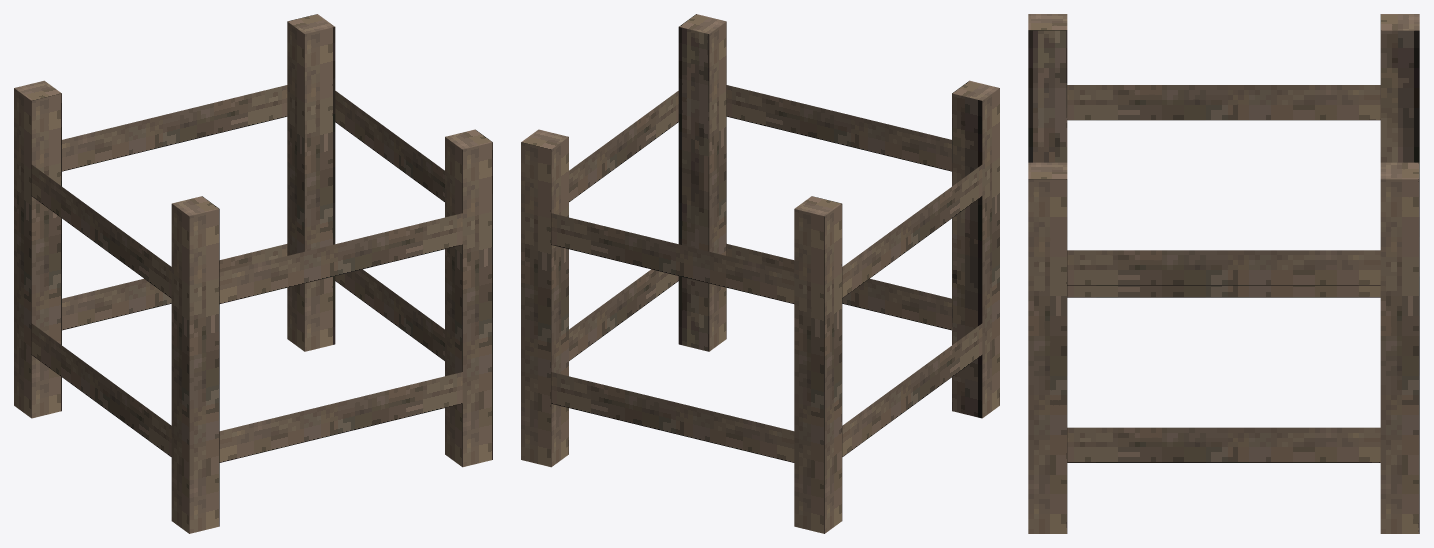
The model's file is structure.glb.
3 renders of one model, left to right at view 1: azimuth 30°, elevation 25°; view 2: azimuth 150°, elevation 25°; view 3: azimuth 270°, elevation 25°, orthographic. The views are drawn at different scales.
Visible parts, largest first — view 1: structure; view 2: structure; view 3: structure.
Boxes of the visible parts, x1,y1,x2,y2 form: structure: (14, 14, 492, 533); structure: (521, 14, 999, 533); structure: (1028, 14, 1419, 533).
Bounding box in the file's own units: 3 × 3 × 3.
Materials: 1 (1 with a texture image).
